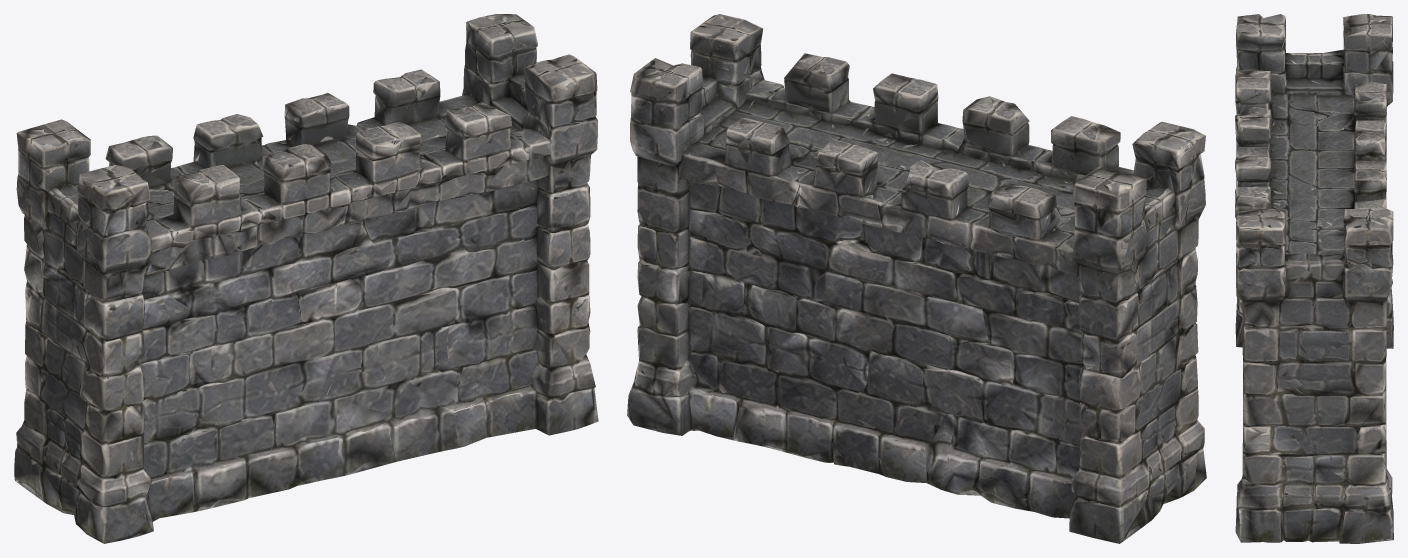
The model's file is fort_m_arctic_wall.glb.
3 renders of one model, left to right at view 1: azimuth 30°, elevation 25°; view 2: azimuth 150°, elevation 25°; view 3: azimuth 270°, elevation 25°, orthographic. The views are drawn at different scales.
Parts seen in each view (by area): view 1: fort_m_arctic_wall; view 2: fort_m_arctic_wall; view 3: fort_m_arctic_wall.
Part boxes in pixels (bbox=[...]): fort_m_arctic_wall: bbox=[14, 14, 598, 543]; fort_m_arctic_wall: bbox=[627, 14, 1206, 543]; fort_m_arctic_wall: bbox=[1235, 14, 1393, 543].
Bounding box in the file's own units: 1.9 × 1.28 × 0.5843.
1 material, 1 textured.
